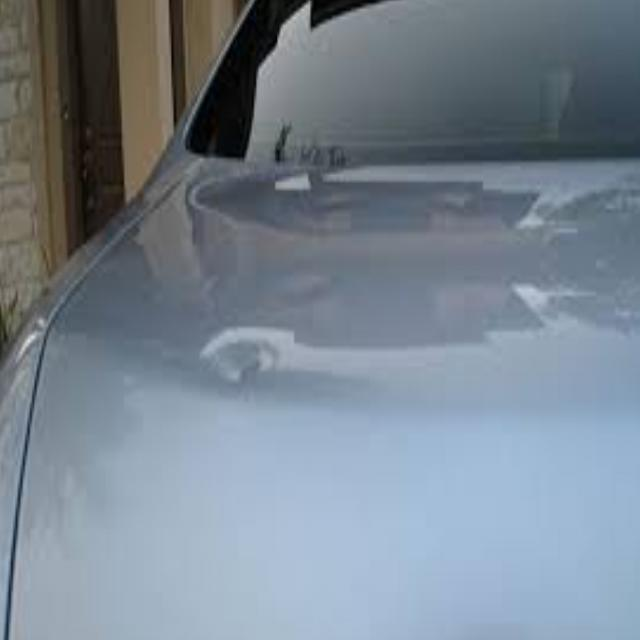dents: (215, 301, 284, 404)
